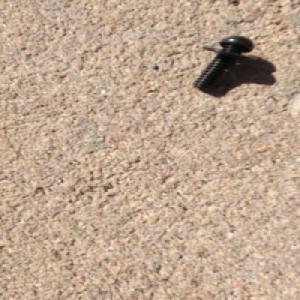BoltWasher: (192, 34, 260, 90)
